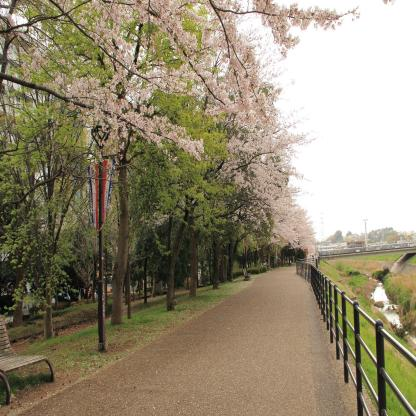Someiyoshino: (67, 3, 367, 248)
